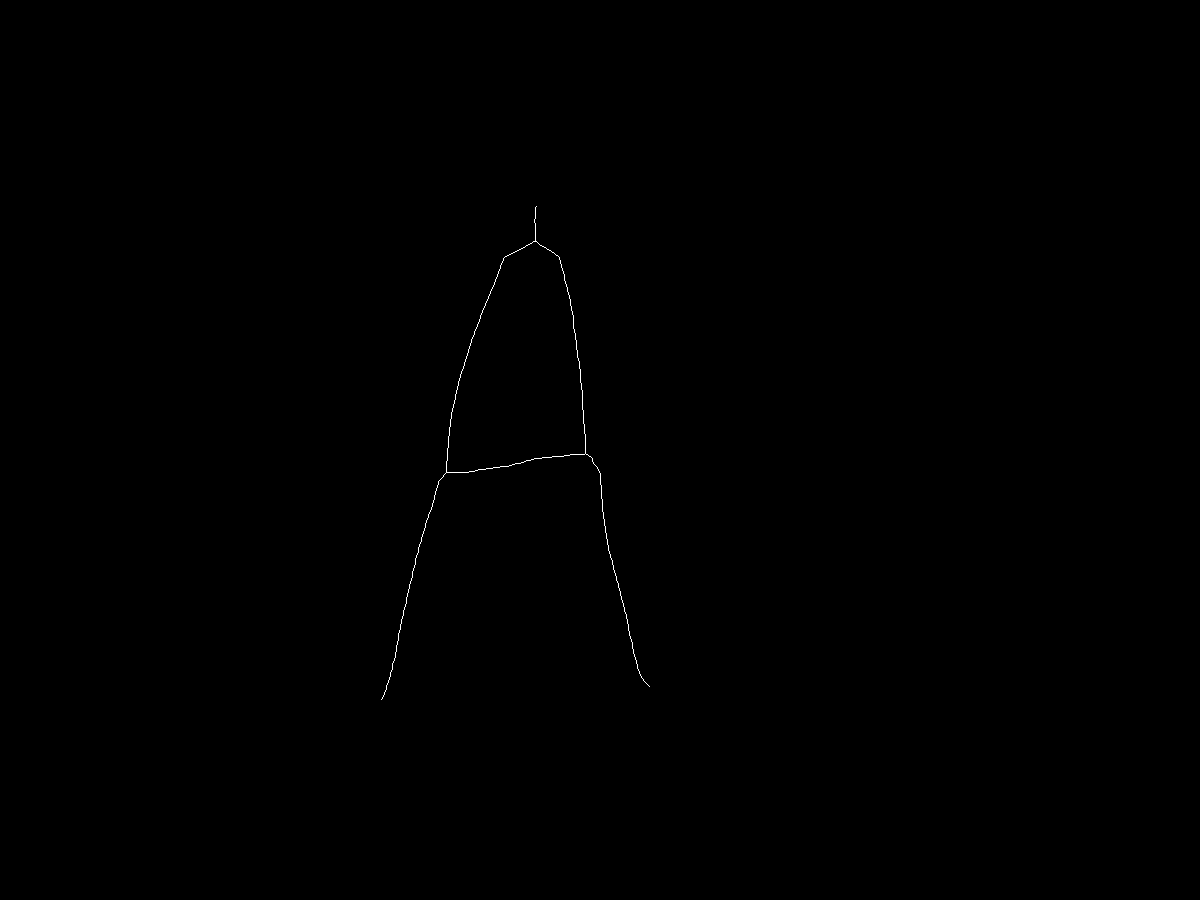dian1: (526, 238, 541, 253)
dian2: (444, 468, 455, 479)
dian3: (371, 688, 390, 707)
dian4: (582, 448, 599, 465)
dian5: (635, 674, 659, 698)
